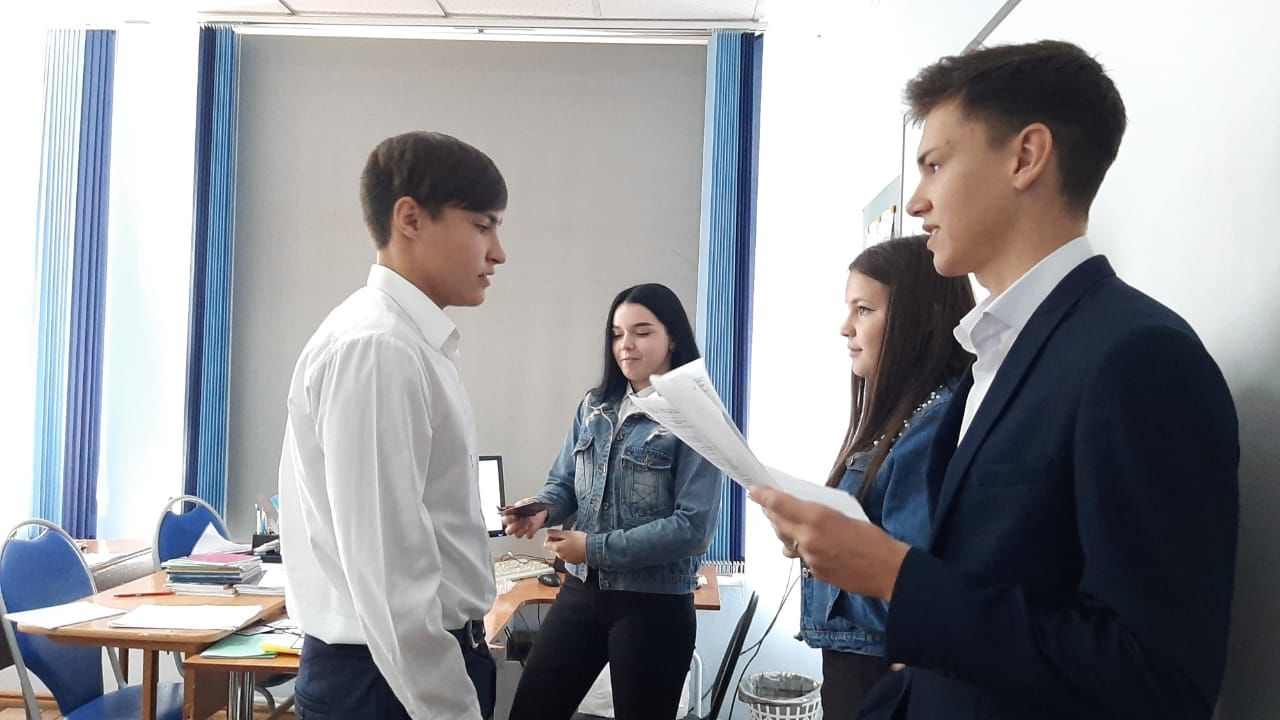students: (746, 38, 1239, 715), (277, 131, 510, 717), (502, 282, 726, 713), (800, 234, 974, 718)
